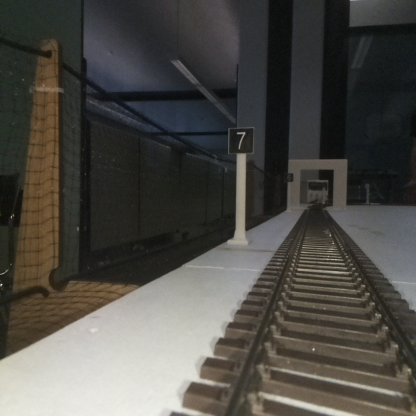black-info-6: (284, 171, 293, 210)
black-info-7: (228, 127, 253, 245)
